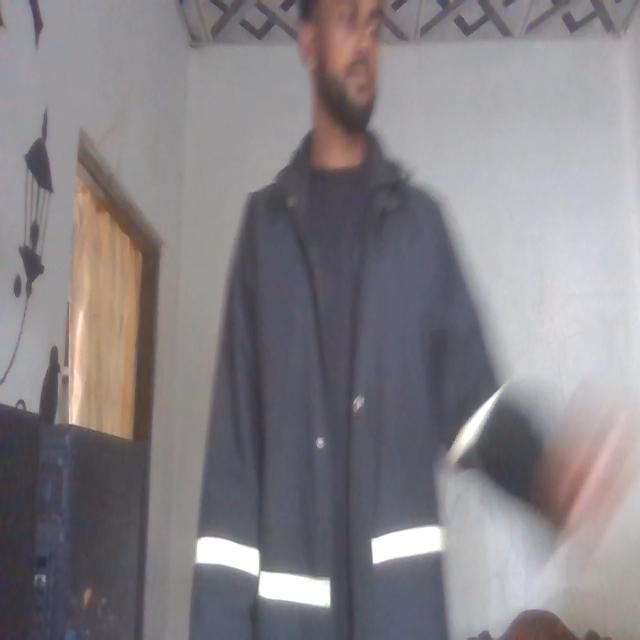Jacket_Wearer: (202, 120, 490, 640)
Person: (176, 0, 520, 640)
